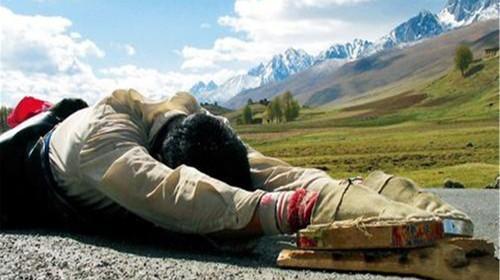Fall-Detected: (0, 74, 500, 261)
